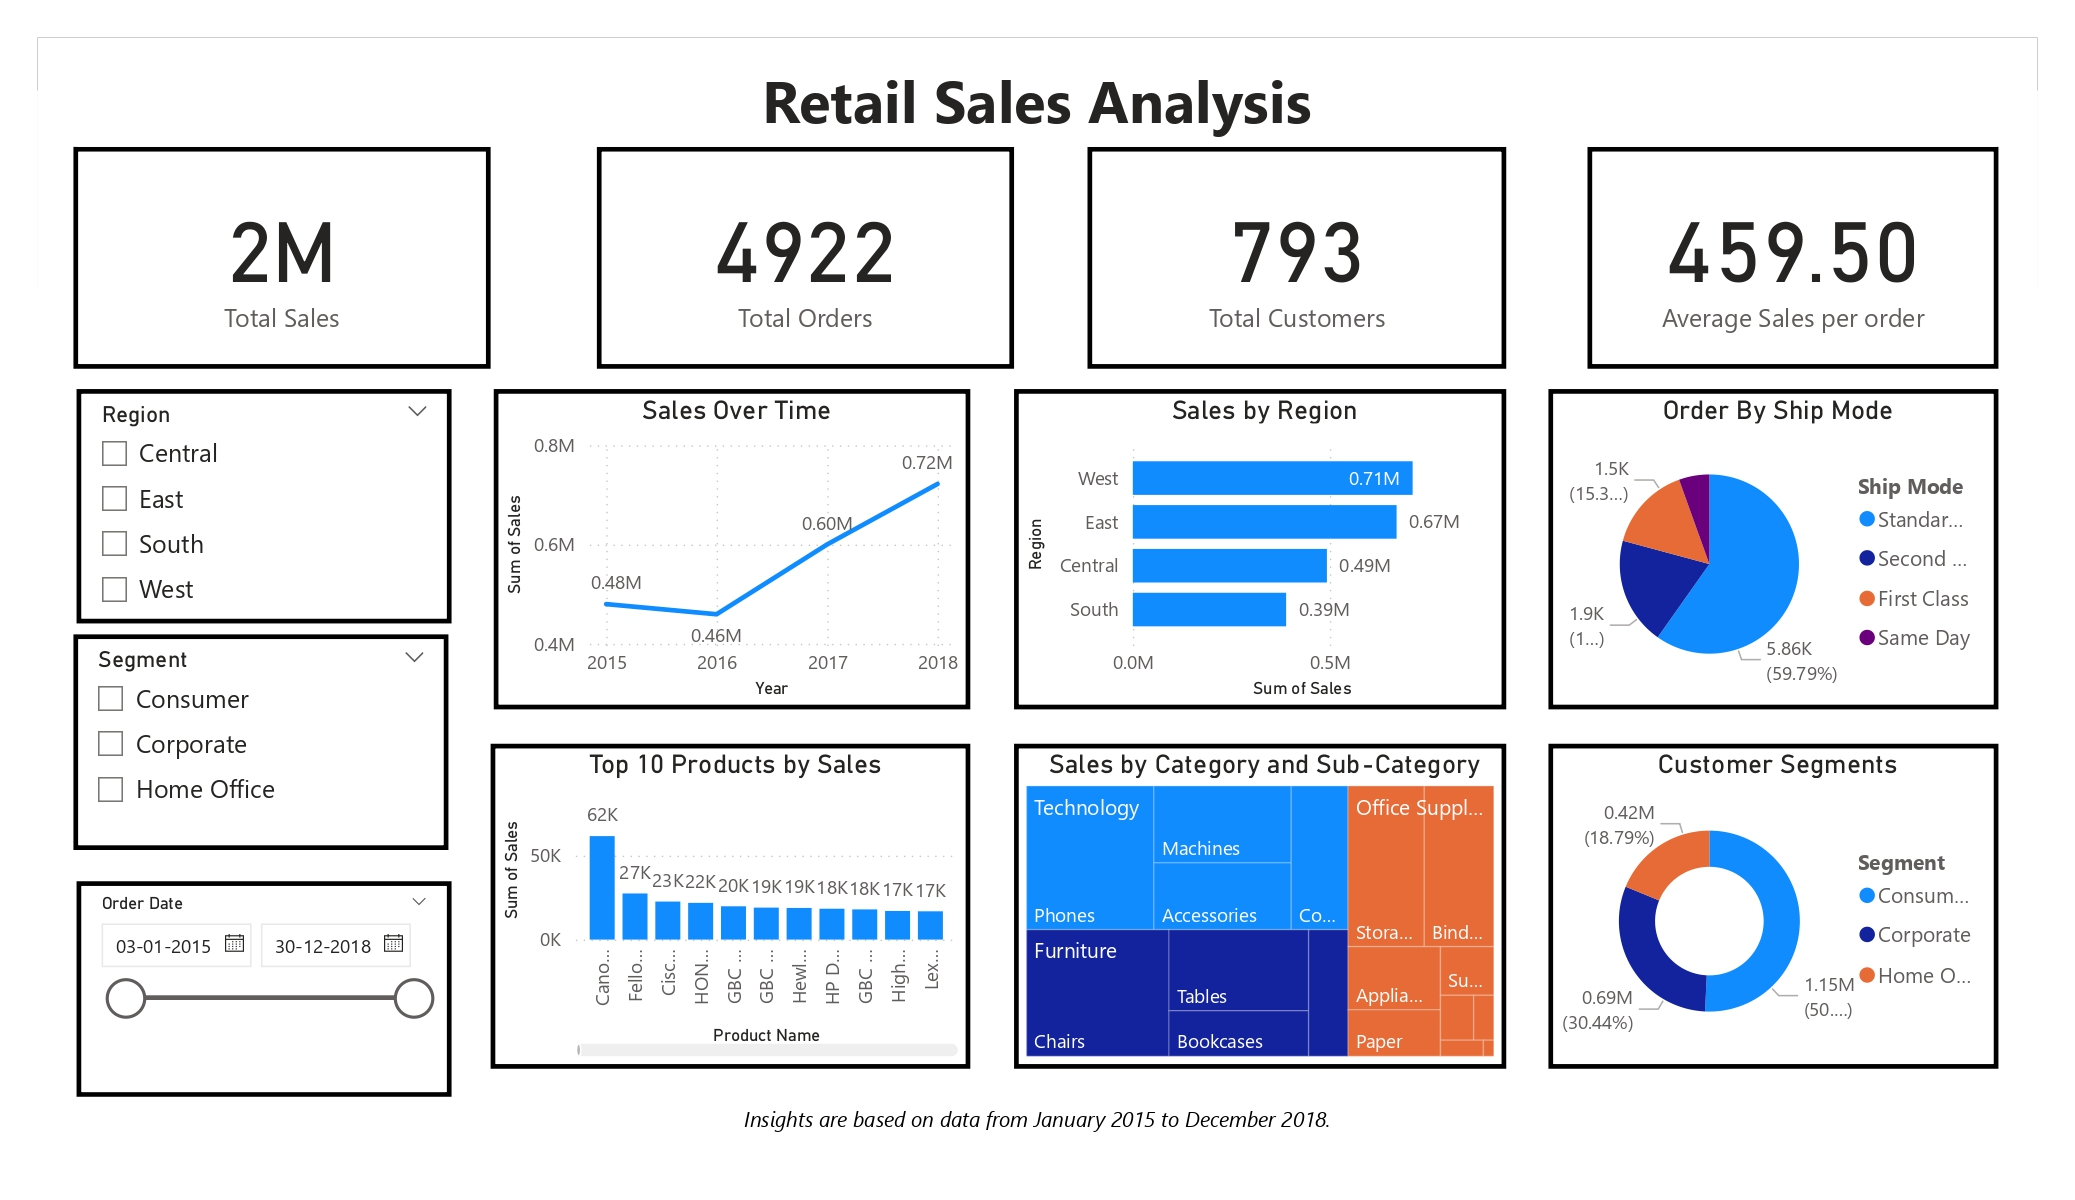

Layout of this report page (visuals, bound fields, positions):
{"tool":"powerbi","page":{"name":"Page 1","canvas":[1280,720],"ordinal":0},"visuals":[{"type":"card","fields":{"Values":["train.Total Sales"]},"box":[24.9,82,266.3,142],"z":0},{"type":"card","fields":{"Values":["train.Total Orders"]},"box":[358.5,82,266.3,142],"z":1},{"type":"card","fields":{"Values":["train.Total Customers"]},"box":[670.2,82,267.8,142],"z":2},{"type":"card","fields":{"Values":["train.Average Sales per order"]},"box":[989.3,82,264.9,142],"z":3},{"type":"lineChart","title":"Sales Over Time","fields":{"Y":["Sum(train.Sales)"],"Category":["train.Order Date.Variation.Date Hierarchy.Year","train.Order Date.Variation.Date Hierarchy.Month"]},"box":[291.2,267.8,289.8,182.9],"z":4},{"type":"barChart","title":"Sales by Region","fields":{"Category":["train.Region"],"Y":["Sum(train.Sales)"]},"box":[624.9,267.8,291.2,182.9],"z":5},{"type":"columnChart","title":"Top 10 Products by Sales","fields":{"Category":["train.Product Name"],"Y":["Sum(train.Sales)"]},"box":[291.2,519.5,289.8,182.9],"z":6},{"type":"treemap","title":"Sales by Category and Sub-Category","fields":{"Group":["train.Category"],"Details":["train.Sub-Category"],"Values":["Sum(train.Sales)"]},"box":[624.9,519.5,291.2,182.9],"z":7},{"type":"pieChart","title":"Order By Ship Mode","fields":{"Category":["train.Ship Mode"],"Y":["CountNonNull(train.Order ID)"]},"box":[964.4,267.8,289.8,182.9],"z":8},{"type":"donutChart","title":"Customer Segments","fields":{"Category":["train.Segment"],"Y":["Sum(train.Sales)"]},"box":[964.4,519.5,289.8,182.9],"z":9},{"type":"slicer","fields":{"Values":["train.Region"]},"box":[23.4,240,240,149.3],"z":10},{"type":"slicer","fields":{"Values":["train.Segment"]},"box":[23.4,406.8,240,139],"z":11},{"type":"slicer","fields":{"Values":["train.Order Date"]},"box":[23.4,563.4,240,139],"z":12},{"type":"textbox","box":[24.9,10.2,1229.3,60],"z":13}]}

Visuals, with their boxes in screenshot pixels (x1, y1, x2, y2):
card - train.Total Sales: box=[76, 166, 492, 388]
card - train.Total Orders: box=[598, 166, 1014, 388]
card - train.Total Customers: box=[1085, 166, 1503, 388]
card - train.Average Sales per order: box=[1583, 166, 1997, 388]
"Sales Over Time" lineChart: box=[492, 456, 945, 742]
"Sales by Region" barChart: box=[1014, 456, 1469, 742]
"Top 10 Products by Sales" columnChart: box=[492, 849, 945, 1135]
"Sales by Category and Sub-Category" treemap: box=[1014, 849, 1469, 1135]
"Order By Ship Mode" pieChart: box=[1544, 456, 1997, 742]
"Customer Segments" donutChart: box=[1544, 849, 1997, 1135]
slicer - train.Region: box=[74, 412, 449, 646]
slicer - train.Segment: box=[74, 673, 449, 890]
slicer - train.Order Date: box=[74, 918, 449, 1135]
textbox: box=[76, 53, 1997, 147]
